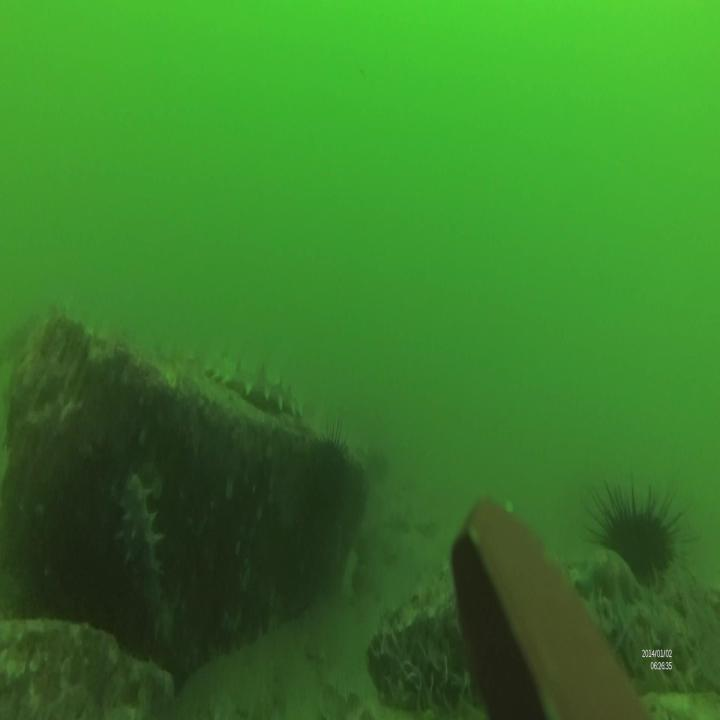echinus: (588, 480, 694, 597)
holothurian: (115, 472, 177, 646), (203, 353, 303, 419)
